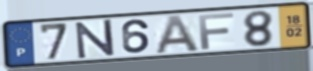6: (120, 18, 152, 55)
7: (38, 22, 70, 62)
8: (241, 9, 276, 48)
A: (153, 13, 202, 56)
F: (197, 11, 236, 51)
N: (73, 18, 117, 61)
